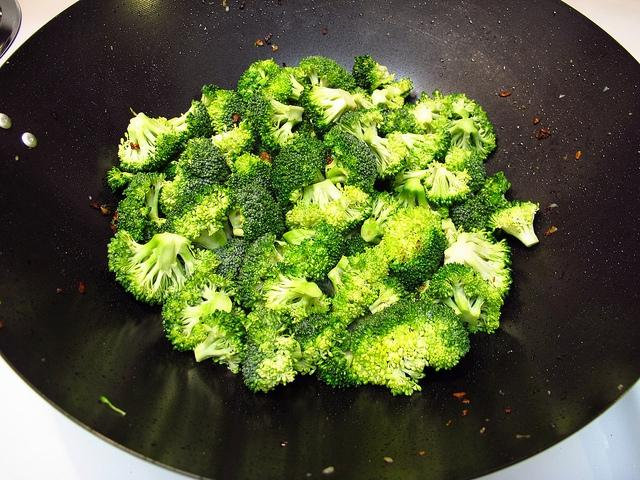broccoli: (350, 300, 470, 396), (106, 229, 223, 306), (426, 261, 504, 334), (326, 244, 391, 325), (383, 206, 446, 289), (241, 308, 302, 393), (284, 180, 373, 238), (162, 272, 232, 345), (443, 232, 514, 300), (118, 107, 190, 174), (166, 184, 237, 250), (430, 93, 498, 159), (274, 225, 350, 284), (262, 262, 334, 324), (282, 312, 347, 375), (452, 172, 512, 236), (272, 133, 326, 204), (116, 172, 168, 244), (237, 232, 284, 311), (247, 91, 304, 153), (326, 130, 378, 193), (298, 84, 357, 136), (195, 309, 248, 362), (228, 194, 286, 241), (486, 200, 540, 248), (360, 190, 408, 244), (445, 131, 486, 192), (224, 152, 276, 198), (180, 136, 232, 182), (363, 128, 408, 180), (424, 160, 471, 209), (201, 84, 246, 135), (399, 128, 452, 170), (396, 177, 449, 218), (211, 118, 257, 164), (352, 54, 396, 96), (212, 236, 254, 280), (171, 100, 215, 138), (368, 276, 409, 314), (377, 103, 425, 134), (266, 67, 304, 103), (371, 78, 413, 110), (294, 56, 337, 85), (409, 103, 441, 134), (106, 166, 136, 194), (280, 314, 294, 336)
